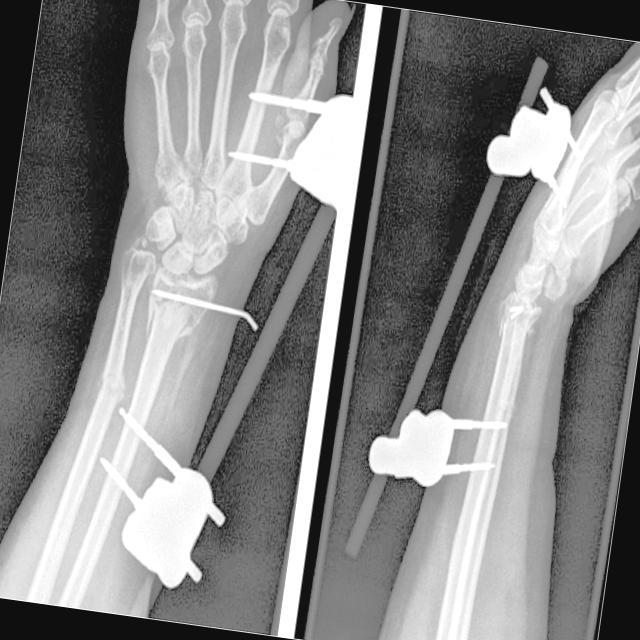Intra-articular fracture: (153, 271, 215, 335), (497, 288, 542, 349), (478, 386, 525, 431), (95, 365, 130, 410)
